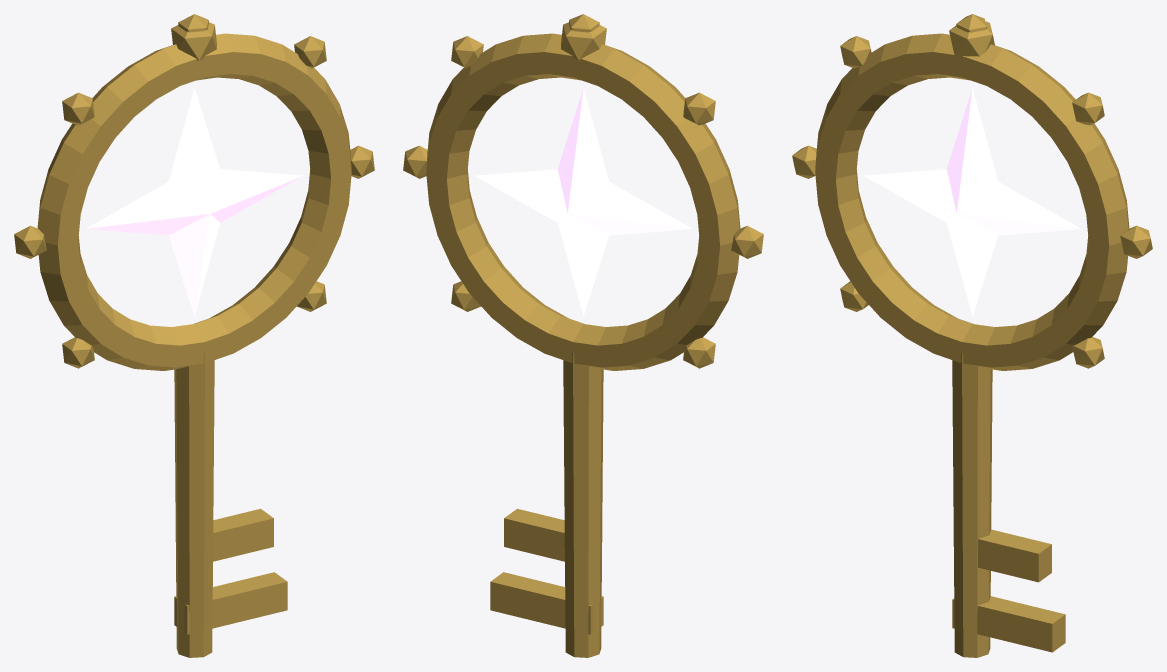
Rendered from star_key.glb.
3 views of the same model, side by side, from view 1: azimuth 30°, elevation 25°; view 2: azimuth 150°, elevation 25°; view 3: azimuth 330°, elevation 25° (orthographic).
Visible parts, largest first — view 1: StarKey; view 2: StarKey; view 3: StarKey.
Part boxes in pixels (box(x1,y1,x2,y2)): StarKey: box(14, 14, 374, 657); StarKey: box(403, 14, 763, 657); StarKey: box(792, 14, 1152, 657).
Bounding box in the file's own units: 0.7826 × 1.34 × 0.12.
